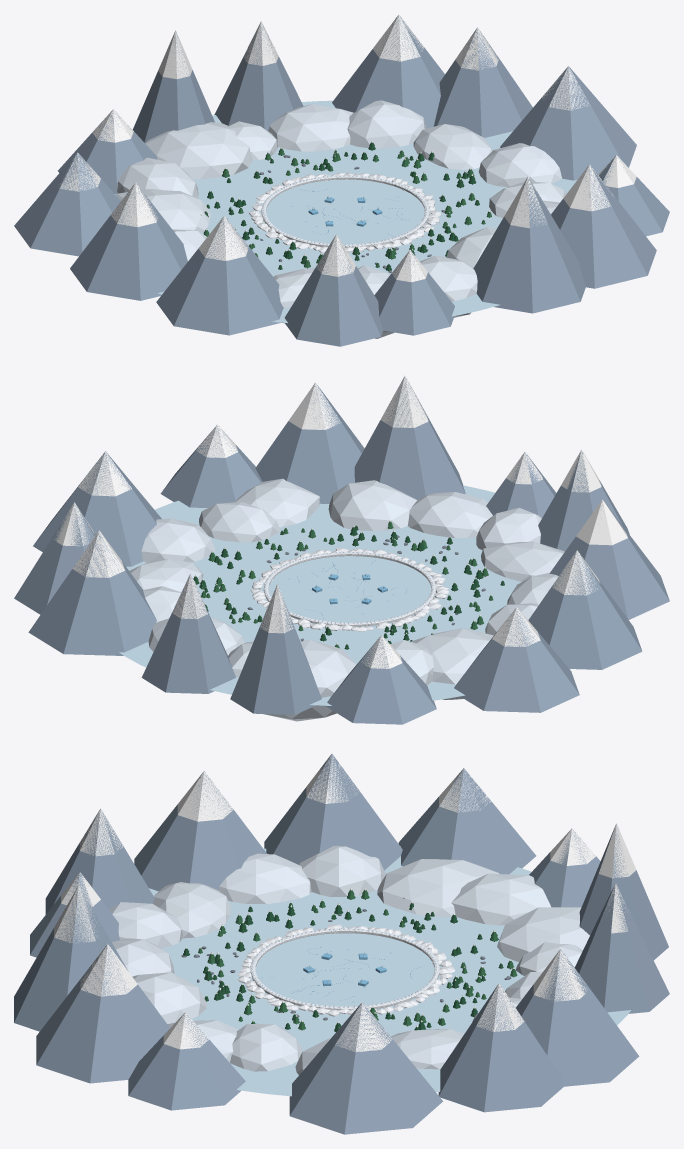
The model's file is arena_ice.glb.
The picture shows the model from 3 angles, top to bottom: view 1: azimuth 30°, elevation 25°; view 2: azimuth 150°, elevation 25°; view 3: azimuth 270°, elevation 25°; orthographic projection. The views are drawn at different scales.
Parts seen in each view (by area): view 1: far_mount, far_snow2, ground_floor, far_cap, props_snow, props_pine, props_pine2, walls_snow, walls_snow2; view 2: far_mount, far_snow2, ground_floor, far_cap, props_snow, props_pine, props_pine2, walls_snow, walls_snow2; view 3: far_mount, far_snow2, ground_floor, far_cap, props_snow, props_pine, props_pine2, walls_snow, walls_snow2.
Boxes of the visible parts, box(x1,y1,x2,y2) form: far_mount: box(14, 16, 669, 346); far_snow2: box(116, 100, 565, 338); ground_floor: box(115, 100, 577, 323); far_cap: box(59, 14, 636, 282); props_snow: box(248, 172, 441, 252); props_pine: box(201, 142, 488, 270); props_pine2: box(203, 148, 491, 267); walls_snow: box(261, 175, 429, 247); walls_snow2: box(261, 175, 429, 247); far_mount: box(14, 377, 669, 724); far_snow2: box(129, 478, 564, 721); ground_floor: box(119, 485, 521, 705); far_cap: box(54, 376, 627, 668); props_snow: box(250, 547, 448, 631); props_pine: box(193, 525, 504, 649); props_pine2: box(200, 521, 493, 648); walls_snow: box(263, 552, 436, 626); walls_snow2: box(264, 551, 435, 624); far_mount: box(14, 754, 669, 1134); far_snow2: box(109, 846, 589, 1074); ground_floor: box(149, 846, 630, 1096); far_cap: box(54, 754, 636, 1051); props_snow: box(238, 924, 455, 1016); props_pine: box(183, 898, 503, 1031); props_pine2: box(198, 890, 517, 1029); walls_snow: box(250, 928, 439, 1009); walls_snow2: box(250, 928, 439, 1008).
Size of the model in its own units: 427 by 106 by 382.
